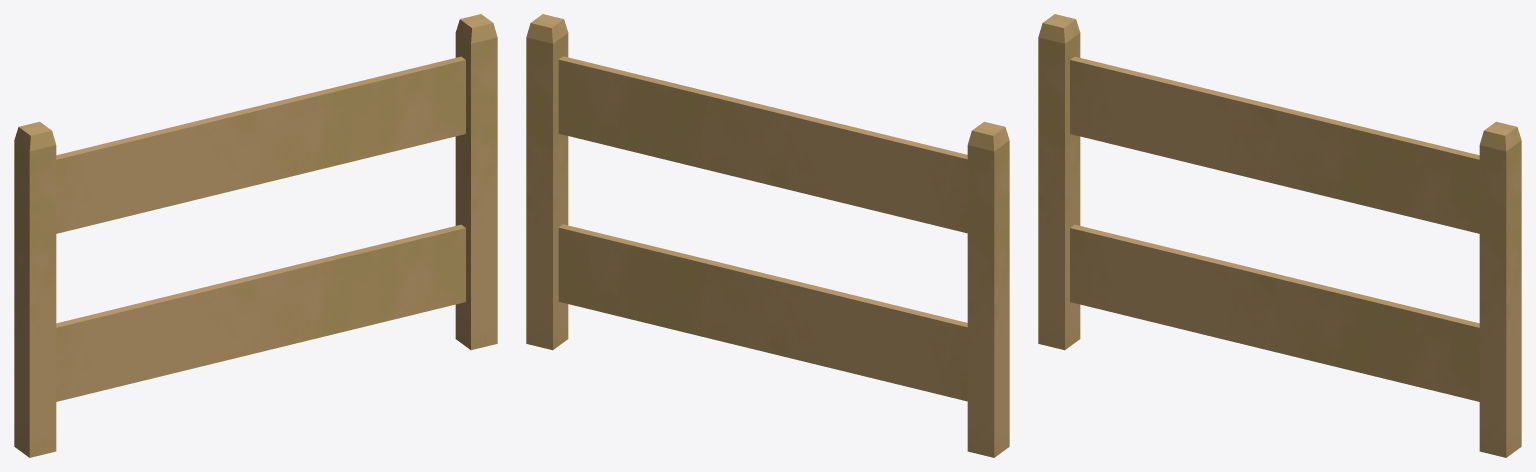
3 views of the same model, side by side, from view 1: azimuth 30°, elevation 25°; view 2: azimuth 150°, elevation 25°; view 3: azimuth 330°, elevation 25° (orthographic).
Parts seen in each view (by area): view 1: Valla; view 2: Valla; view 3: Valla.
Boxes of the visible parts, x1,y1,x2,y2 form: Valla: [14, 14, 497, 457]; Valla: [526, 14, 1009, 457]; Valla: [1038, 14, 1521, 457].
Size of the model in its own units: 2 by 1.31 by 0.1138.
1 material, 1 textured.
